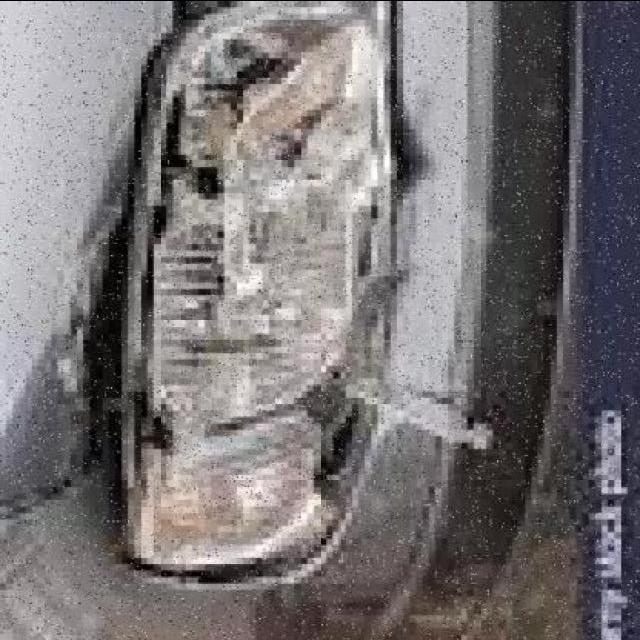Headlight-Damage: (51, 6, 410, 640)
